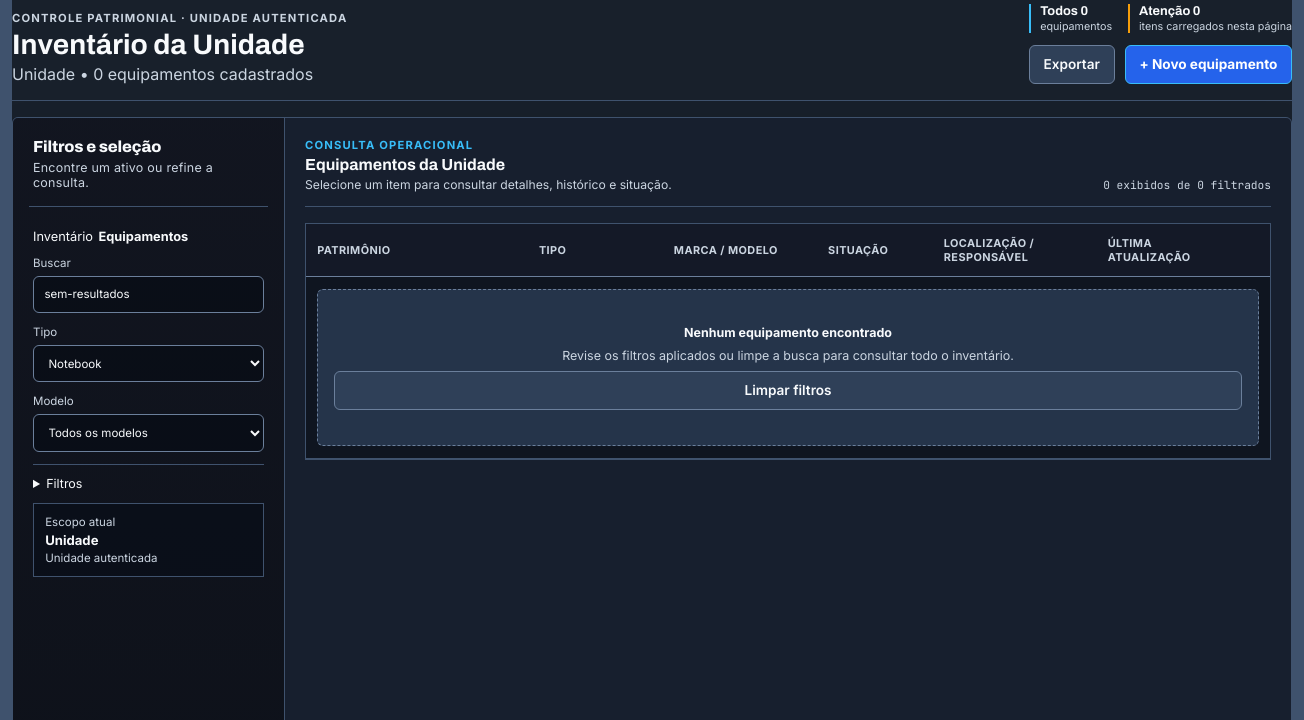
Test case: clears active filters from an empty inventory state
Expected: the text "Nenhum equipamento encontrado" is shown, left=684, top=325, right=892, bottom=340
Step 1. Click the button "Limpar filtros" → [788, 390], box left=334, top=371, right=1242, bottom=410
(page scrolled)
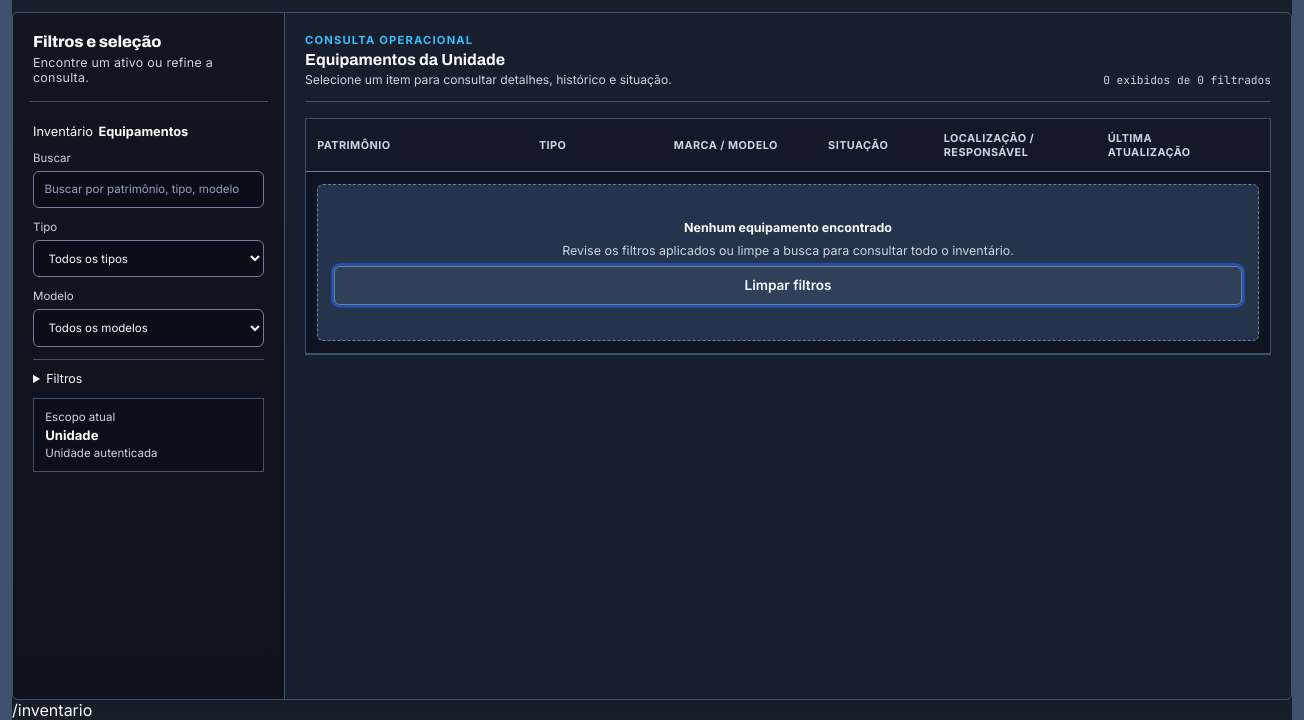
Expected: the text with test id "location" reads "/inventario", left=12, top=700, right=92, bottom=719
